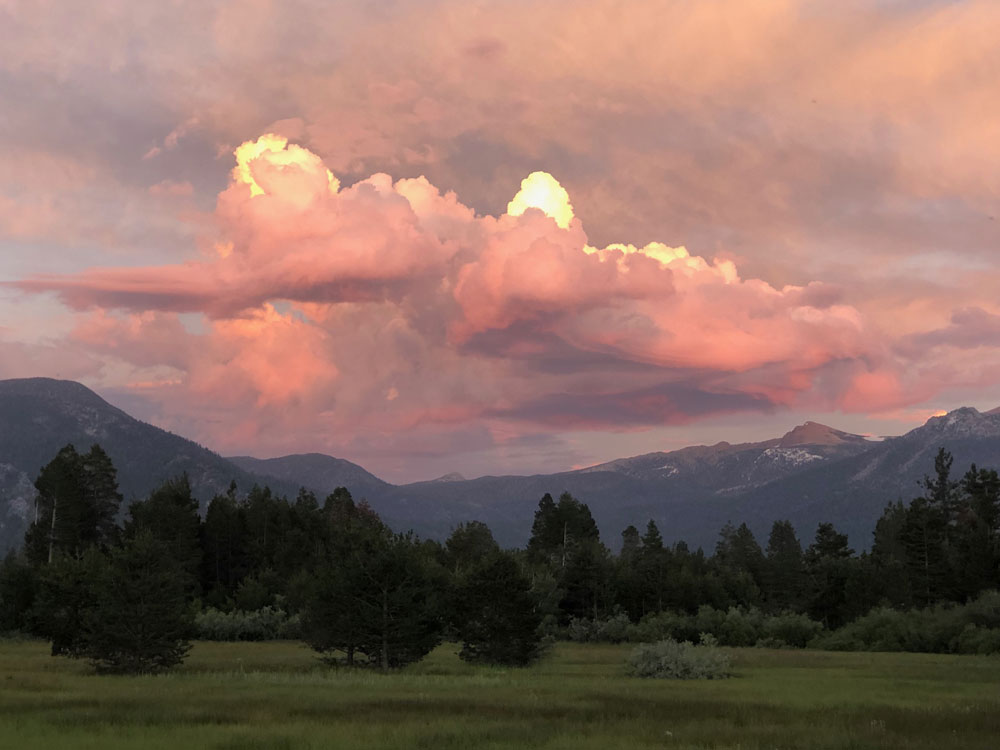Cumulus: (100, 271, 896, 437), (27, 119, 443, 318), (461, 180, 661, 350)
